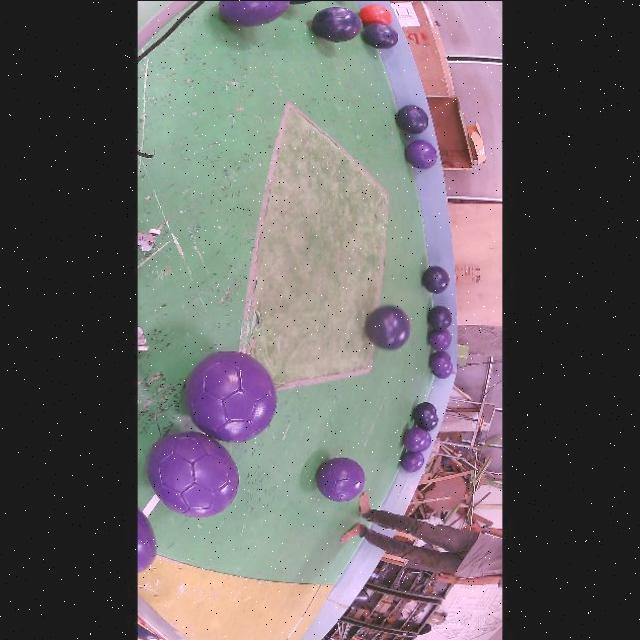B: (366, 304, 411, 349), (312, 6, 362, 41), (396, 104, 429, 133), (363, 22, 398, 49), (423, 265, 449, 293), (428, 304, 452, 330), (414, 402, 436, 422), (417, 414, 438, 431)
P: (185, 350, 277, 441), (148, 431, 239, 517), (316, 456, 366, 501), (219, 0, 290, 26), (138, 508, 157, 571), (405, 138, 438, 169), (404, 427, 428, 451), (429, 350, 452, 373), (428, 328, 452, 350), (401, 450, 425, 471), (433, 363, 453, 378), (422, 431, 431, 450)
R: (359, 3, 392, 25)
